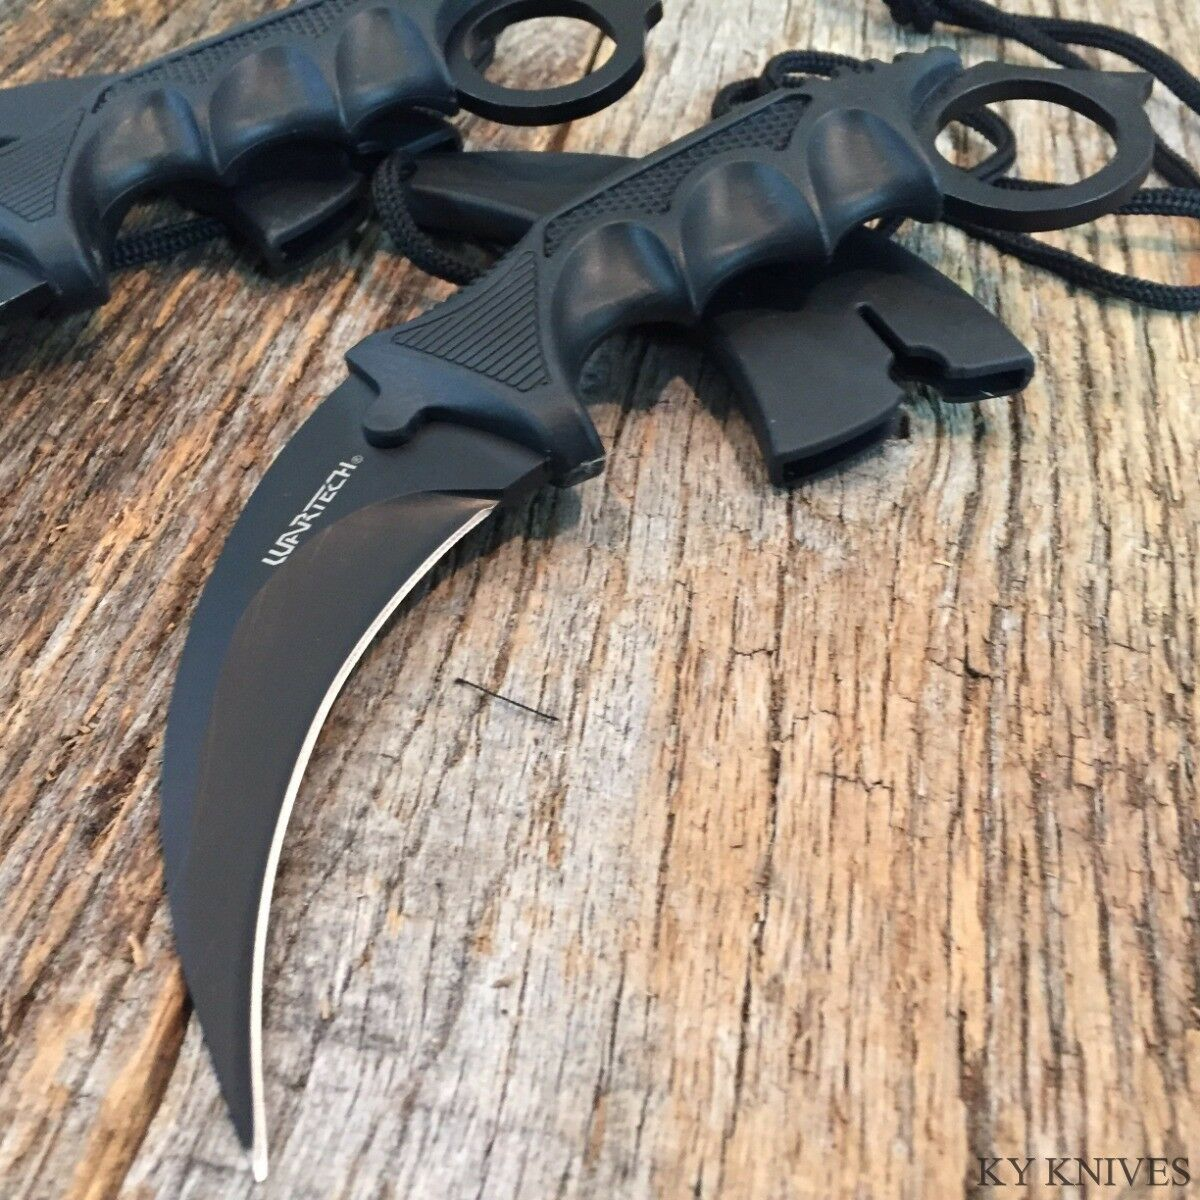knief: (120, 58, 1062, 1109)
